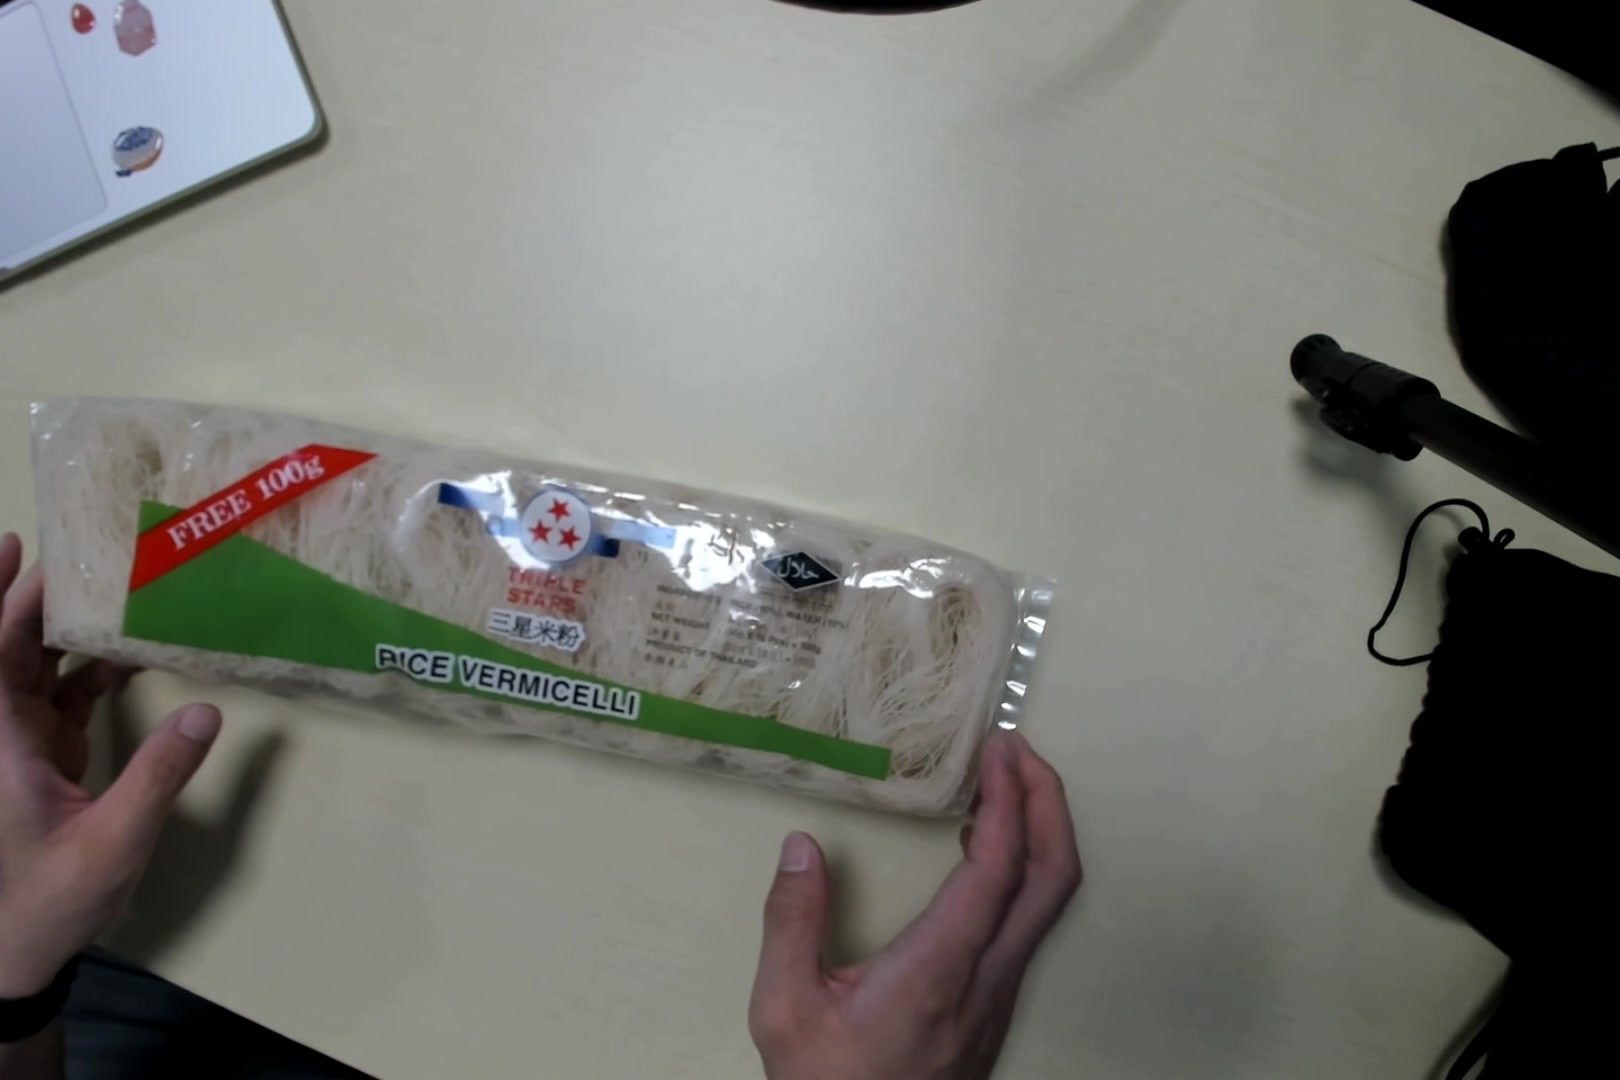BeeHoonVermicelliMeeSua_600-699g_Halal_NonHealthy: (22, 386, 999, 824)
